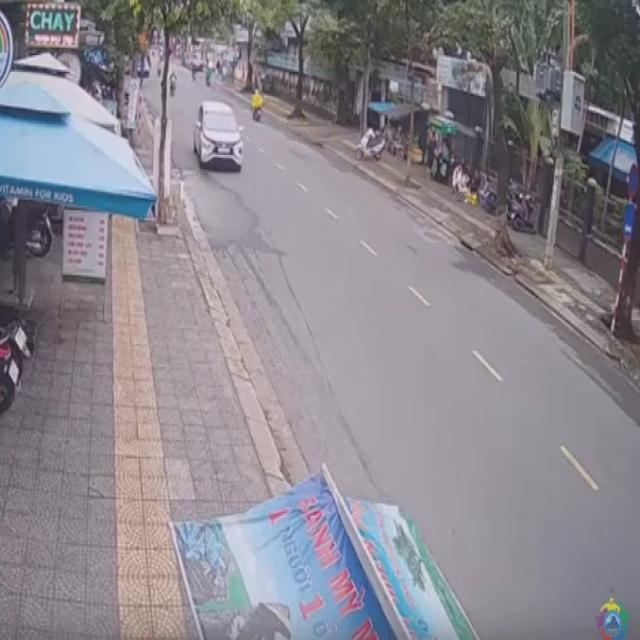car: (192, 100, 244, 174)
